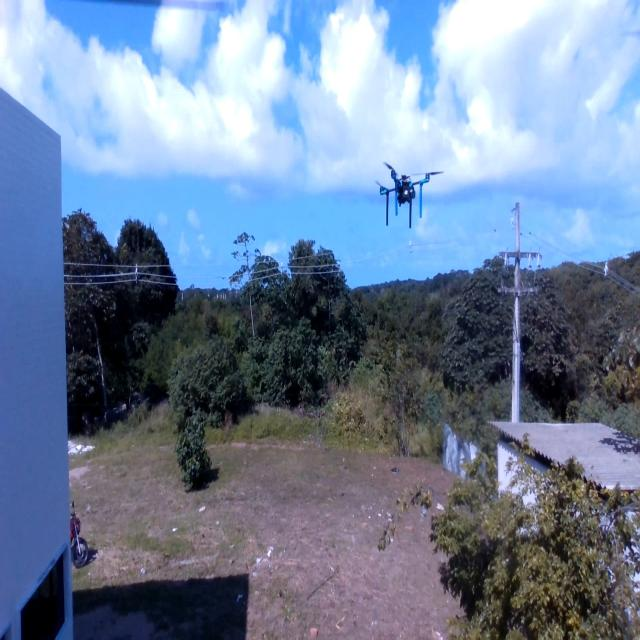-uav-: (361, 150, 455, 236)
